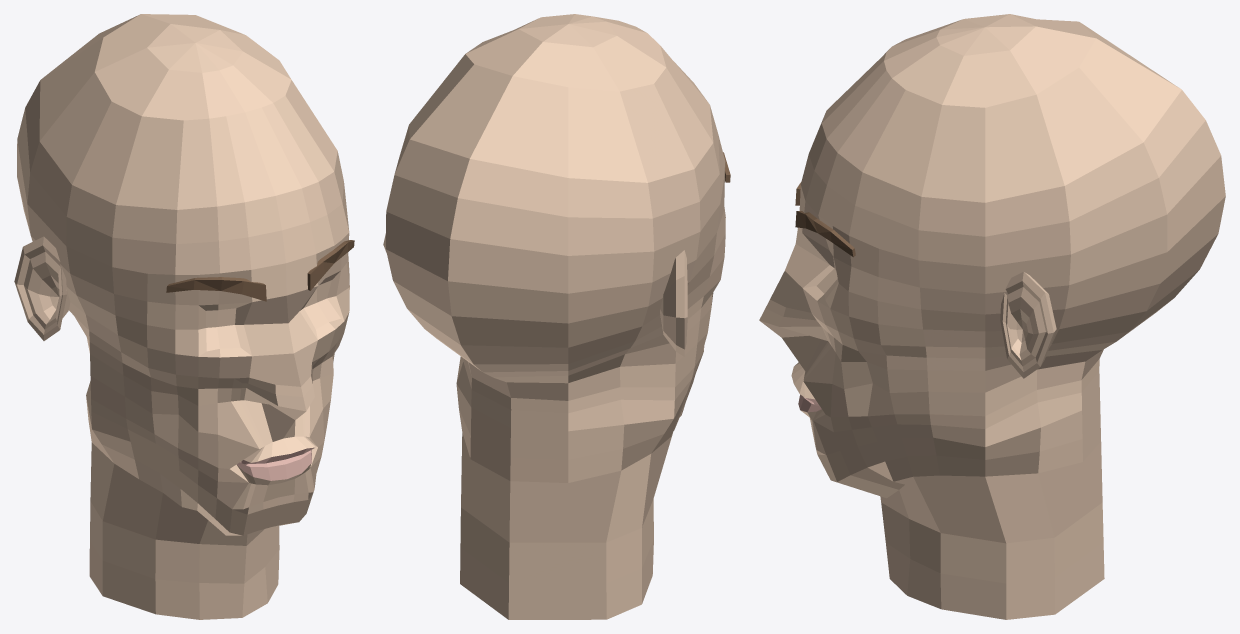
The model's file is head_tpl_v8.glb.
3 renders of one model, left to right at view 1: azimuth 30°, elevation 25°; view 2: azimuth 150°, elevation 25°; view 3: azimuth 270°, elevation 25°, orthographic. The views are drawn at different scales.
Parts seen in each view (by area): view 1: Head_Main, Ears, Eyebrow_R, Eyebrow_L; view 2: Head_Main, Ears; view 3: Head_Main, Ears, Eyebrow_L.
Boxes of the visible parts, <box> form: Head_Main: <box>17,14,349,619</box>; Ears: <box>14,236,70,340</box>; Eyebrow_R: <box>166,277,266,301</box>; Eyebrow_L: <box>307,240,354,290</box>; Head_Main: <box>386,14,725,619</box>; Ears: <box>383,233,687,356</box>; Head_Main: <box>759,14,1225,619</box>; Ears: <box>1000,271,1056,378</box>; Eyebrow_L: <box>795,211,855,257</box>.
Size of the model in its own units: 0.1649 by 0.2886 by 0.2209.
